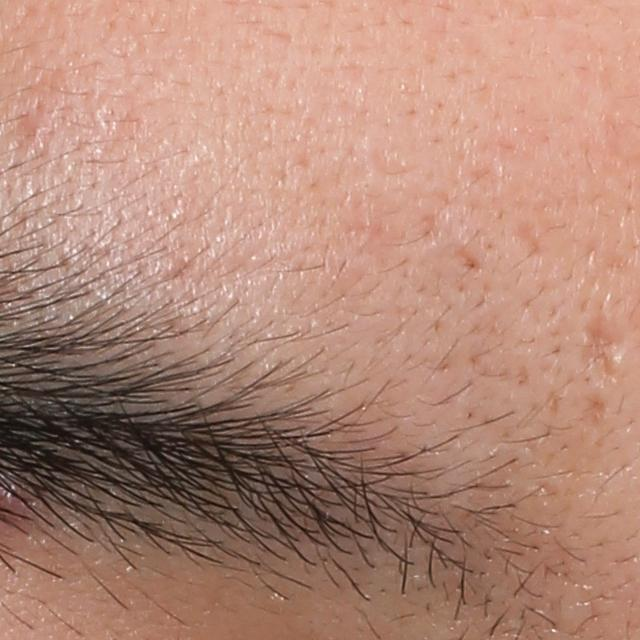atrophic_scar: (580, 317, 626, 391), (512, 220, 546, 262), (587, 396, 610, 427)
